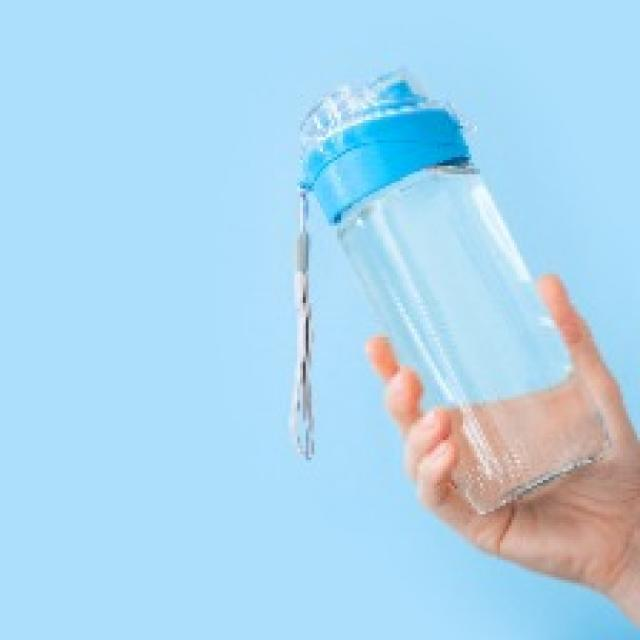plastic_bottle: (271, 87, 616, 515)
